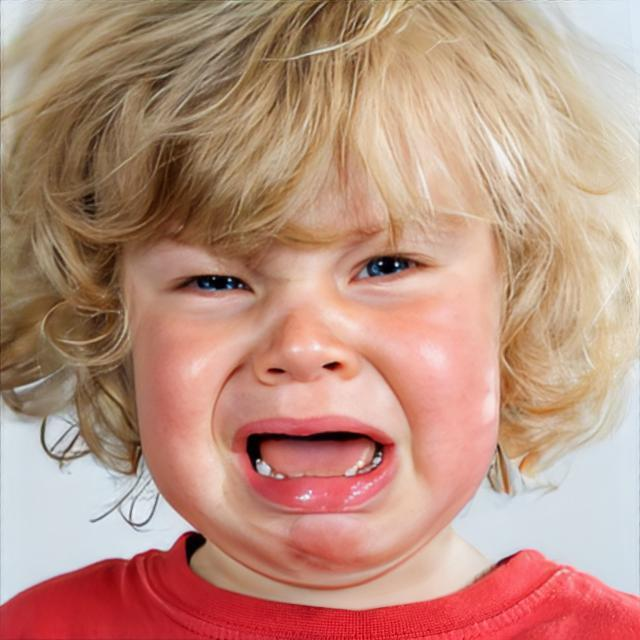sad: (120, 61, 510, 592)
